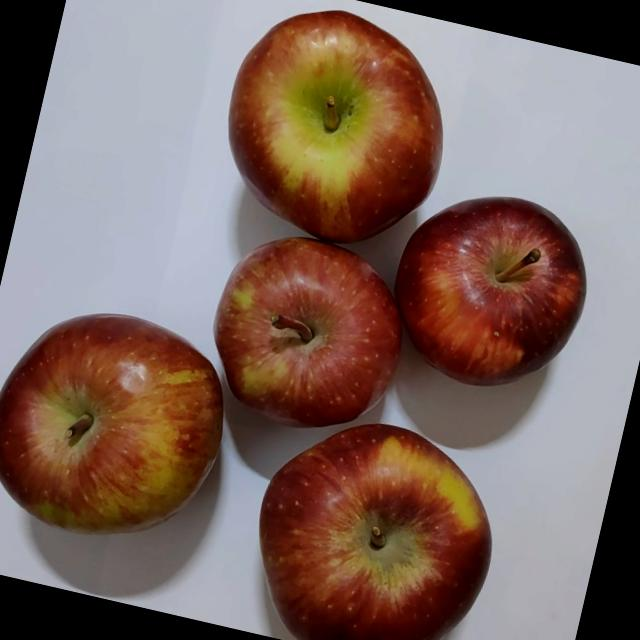apple: (0, 279, 253, 573), (201, 0, 472, 271), (229, 392, 521, 640), (368, 168, 609, 416), (188, 214, 426, 446)
